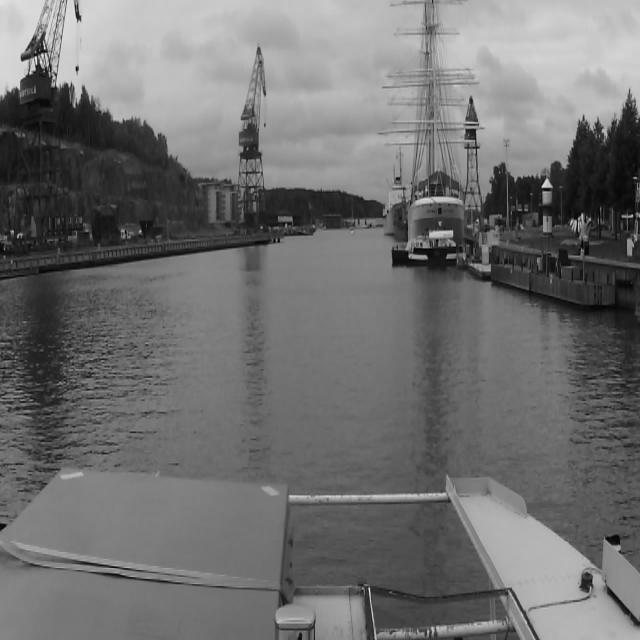ship: (407, 0, 465, 240), (396, 233, 460, 268), (348, 192, 354, 235)
